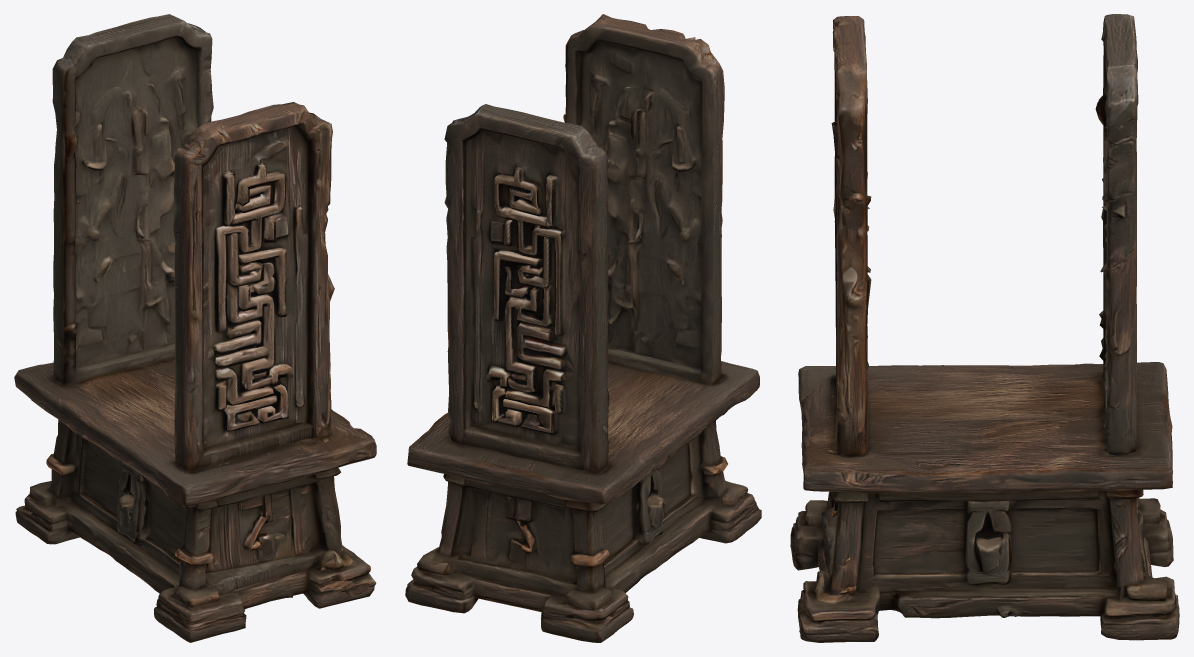
3 renders of one model, left to right at view 1: azimuth 30°, elevation 25°; view 2: azimuth 150°, elevation 25°; view 3: azimuth 270°, elevation 25°, orthographic. The views are drawn at different scales.
Visible parts, largest first — view 1: tripo_node_822875d1-26f7-43e2-bc88-a39c1c279280; view 2: tripo_node_822875d1-26f7-43e2-bc88-a39c1c279280; view 3: tripo_node_822875d1-26f7-43e2-bc88-a39c1c279280.
Part boxes in pixels (bbox=[...]): tripo_node_822875d1-26f7-43e2-bc88-a39c1c279280: bbox=[14, 14, 376, 642]; tripo_node_822875d1-26f7-43e2-bc88-a39c1c279280: bbox=[405, 14, 761, 642]; tripo_node_822875d1-26f7-43e2-bc88-a39c1c279280: bbox=[790, 14, 1179, 642].
Size of the model in its own units: 0.4342 by 1 by 0.6432.
Materials: 1 (1 with a texture image).
